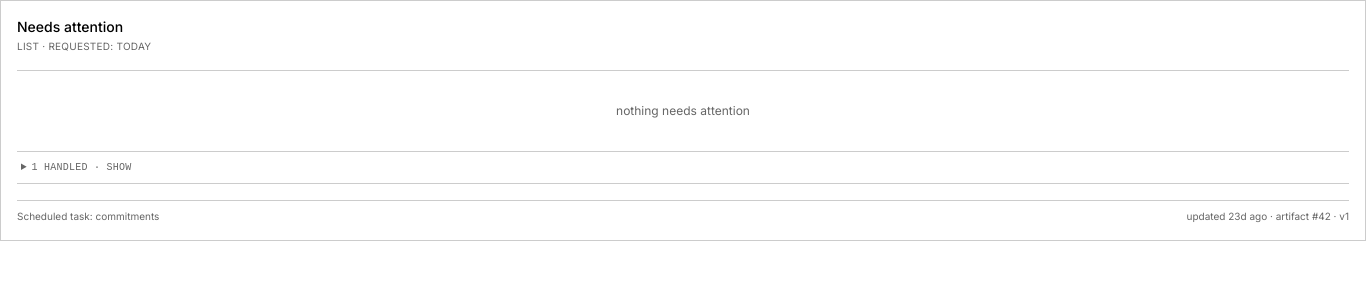
Test case: Live View interactive list decisions › moves handled items into a plain-language reversible receipt
The image size is (1366, 307).
Later steps or results of the test are not shown.
Expected: the text "nothing needs attention" is shown, [616,103,750,118]
Click the heading "1 handled · show" at {"x": 82, "y": 168}, box [32,162,132,173]
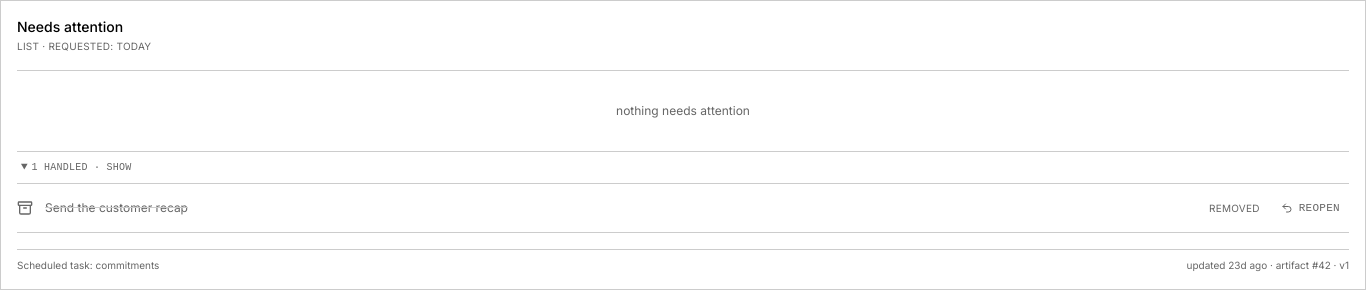
Now the text "removed" is shown, box [1209,200,1260,216]
